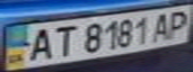1: (133, 14, 154, 45), (103, 18, 121, 51)
8: (78, 20, 106, 53), (115, 16, 139, 48)
A: (21, 26, 57, 62), (148, 10, 175, 43)
P: (163, 7, 193, 39)
T: (48, 22, 78, 58)
